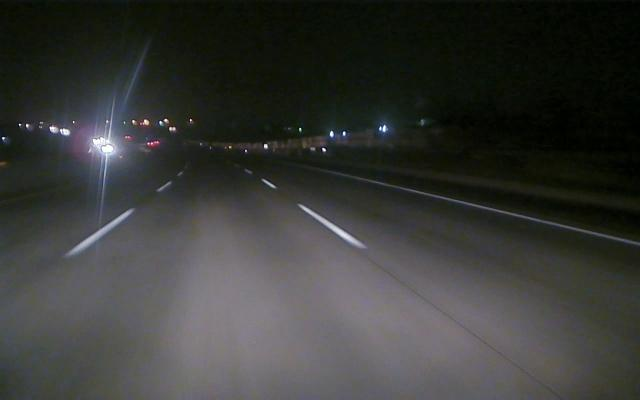lane: (331, 172, 637, 247), (62, 183, 170, 257), (260, 179, 368, 250)
